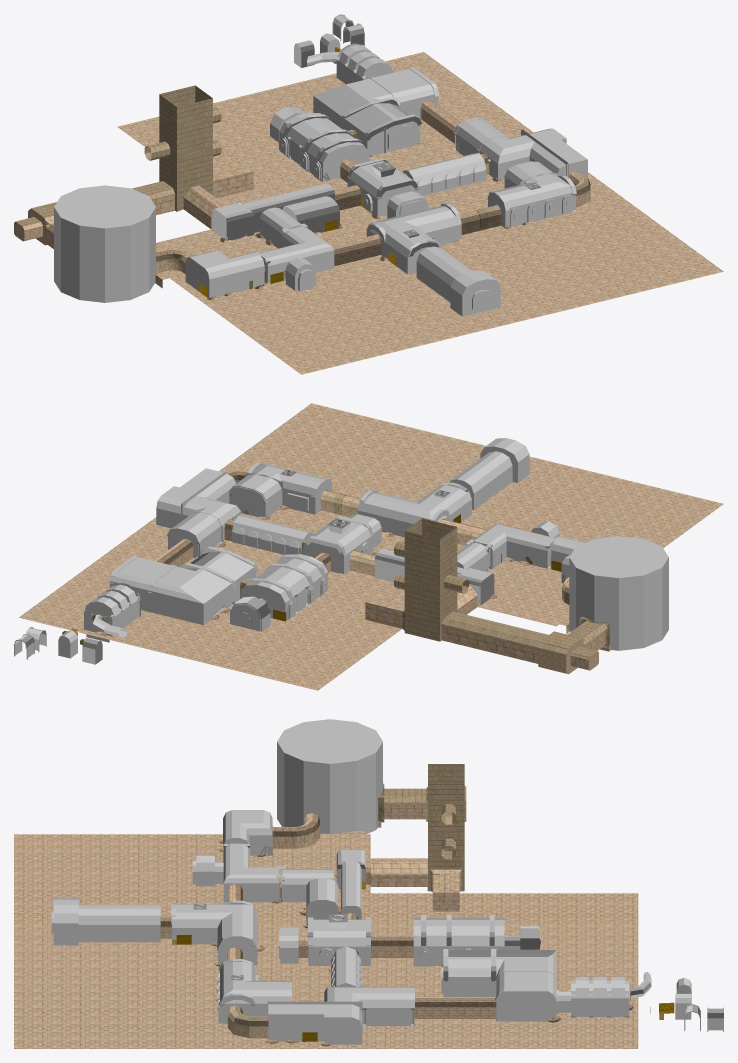
Rendered from stage2.fbx.
3 views of the same model, one above another, from view 1: azimuth 30°, elevation 25°; view 2: azimuth 150°, elevation 25°; view 3: azimuth 270°, elevation 25° (orthographic). The views are drawn at different scales.
Parts seen in each view (by area): view 1: Ground, last_room, 2conduit, Second_room, Third_room_1, Fourth_room, Fifth_room_2, Third_room_A1, Fifth_room_1_001, Sixth_room, Seventh_room, Fifth_room_1 (+11 smaller); view 2: Ground, 2conduit, last_room, Second_room, Third_room_1, Fourth_room, Fifth_room_1_001, Fifth_room_2, Third_room_A1, Sixth_room, Third_room_corridor, Fourth_room_A1 (+15 smaller); view 3: Ground, last_room, 2conduit, Second_room, Third_room_1, Fifth_room_2, Fifth_room_1_001, Sixth_room, Third_room_A1, Fourth_room, start_room, Fourth_room_A1 (+12 smaller).
Boxes of the visible parts, box(x1,y1,x2,y2) form: Ground: box(117, 52, 723, 374); last_room: box(54, 185, 155, 302); 2conduit: box(14, 85, 253, 248); Second_room: box(313, 69, 438, 155); Third_room_1: box(456, 119, 587, 179); Fourth_room: box(488, 161, 575, 228); Fifth_room_2: box(416, 246, 500, 316); Third_room_A1: box(279, 112, 369, 181); Fifth_room_1_001: box(366, 205, 461, 274); Sixth_room: box(259, 226, 334, 291); Seventh_room: box(185, 250, 264, 297); Fifth_room_1: box(212, 183, 334, 240); Ground: box(19, 403, 723, 690); 2conduit: box(365, 518, 609, 674); last_room: box(569, 536, 668, 650); Second_room: box(109, 552, 256, 625); Third_room_1: box(156, 468, 240, 557); Fourth_room: box(229, 463, 331, 517); Fifth_room_1_001: box(358, 484, 471, 537); Fifth_room_2: box(449, 438, 529, 509); Third_room_A1: box(240, 554, 327, 620); Sixth_room: box(473, 521, 559, 568); Third_room_corridor: box(232, 515, 313, 554); Fourth_room_A1: box(303, 519, 373, 573); Ground: box(14, 834, 638, 1048); last_room: box(277, 719, 382, 834); 2conduit: box(370, 764, 466, 911); Second_room: box(441, 950, 556, 1021); Third_room_1: box(268, 987, 414, 1044); Fifth_room_2: box(51, 898, 160, 945); Fifth_room_1_001: box(172, 904, 257, 965); Sixth_room: box(192, 843, 279, 902); Third_room_A1: box(413, 917, 504, 966); Fourth_room: box(217, 961, 291, 1023); start_room: box(571, 976, 629, 1016); Fourth_room_A1: box(308, 919, 370, 965).
Bounding box in the file's own units: 11577 × 2606 × 13387.
